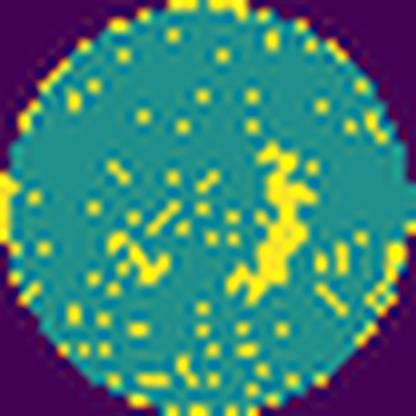Edge-Loc: (226, 144, 323, 302), (109, 232, 172, 285)
